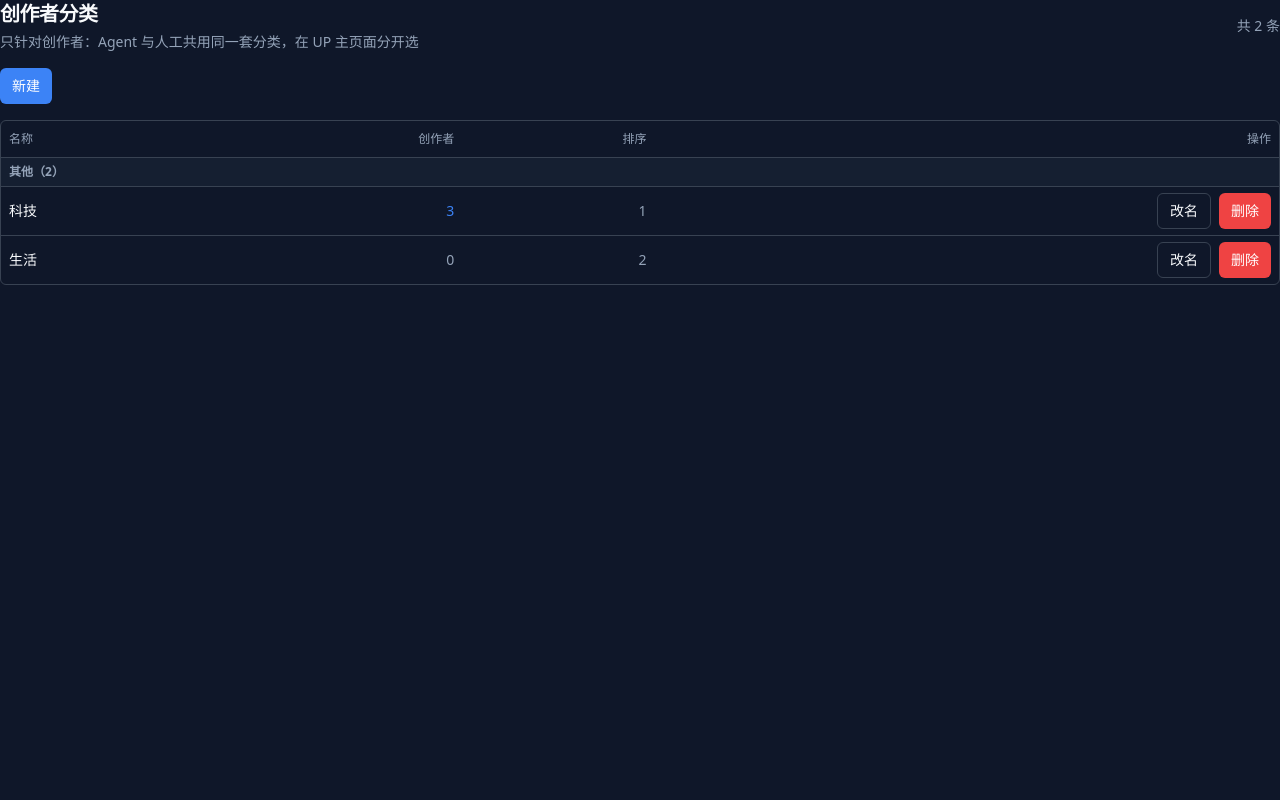
Test: 改名失败：toast 错误文案
Check: the text "科技" is shown, box [1, 186, 212, 235]
Click the button "改名" in the row of "科技": (1184, 210) [1157, 192, 1211, 228]
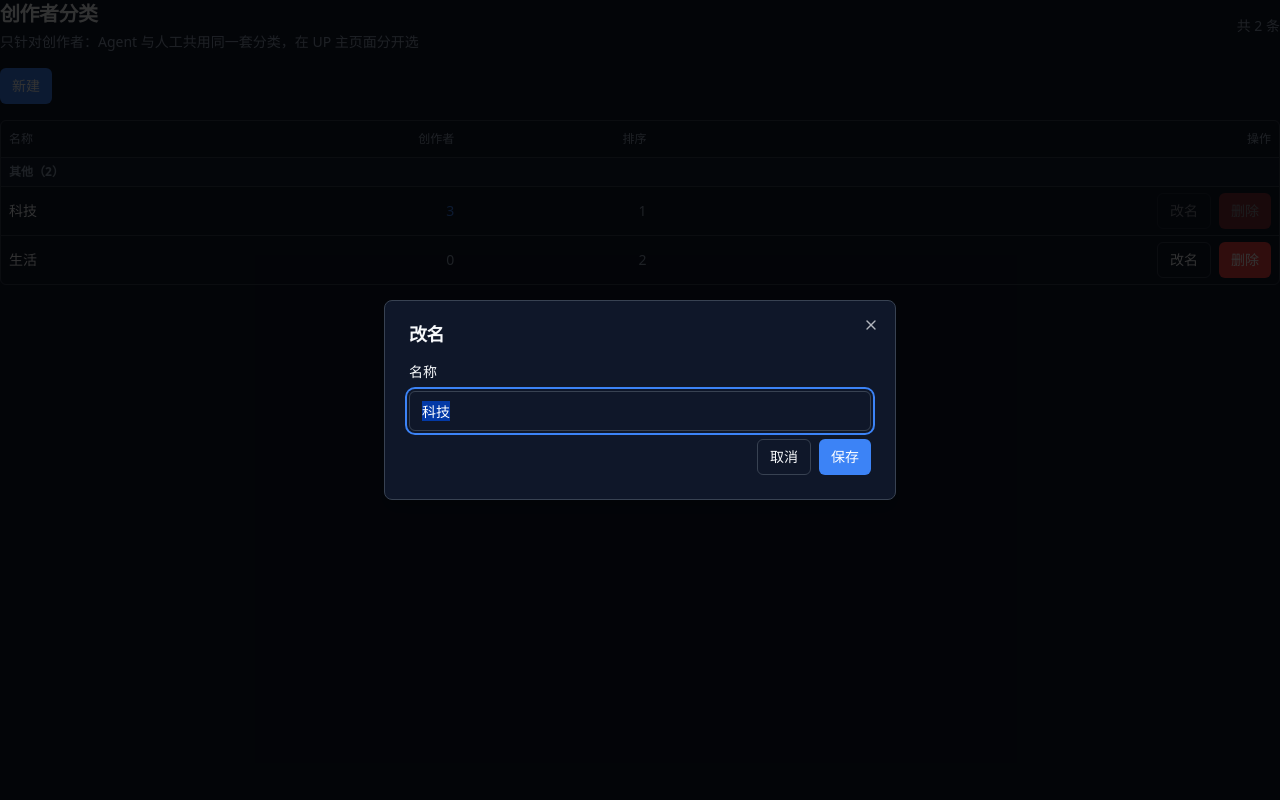
Replace the text in the field labelled "名称" with "别的": (640, 411) [409, 391, 871, 431]
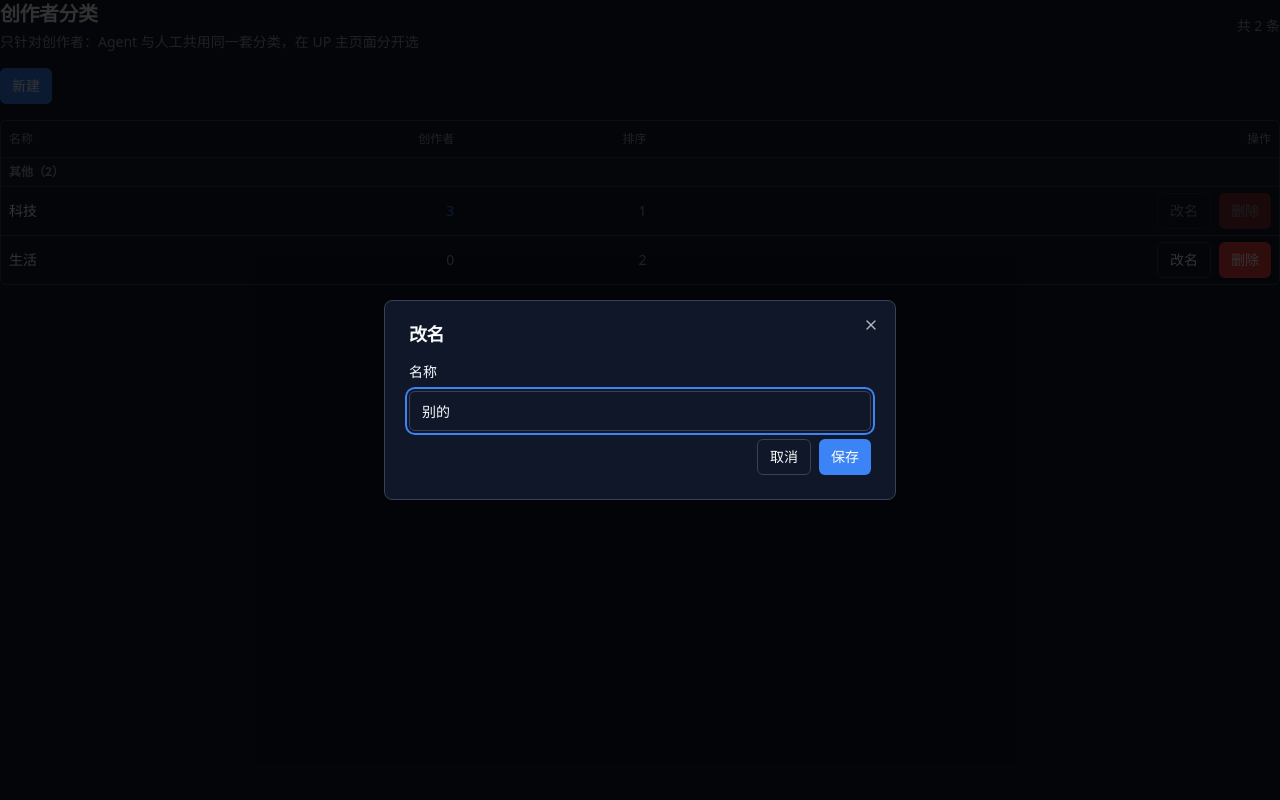
Click the button "保存": (845, 457) [819, 439, 871, 475]
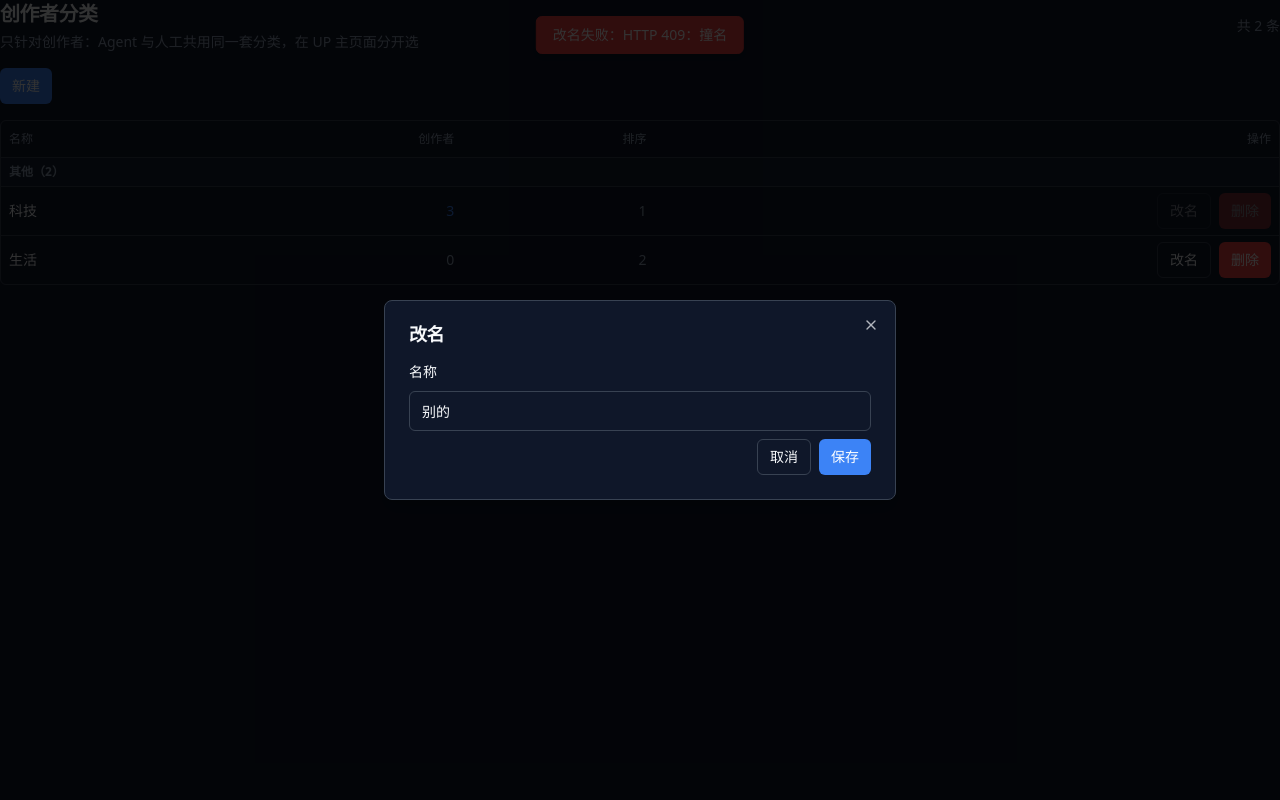
Check: the text "改名失败：HTTP 409：撞名" is shown, box [536, 16, 744, 54]
